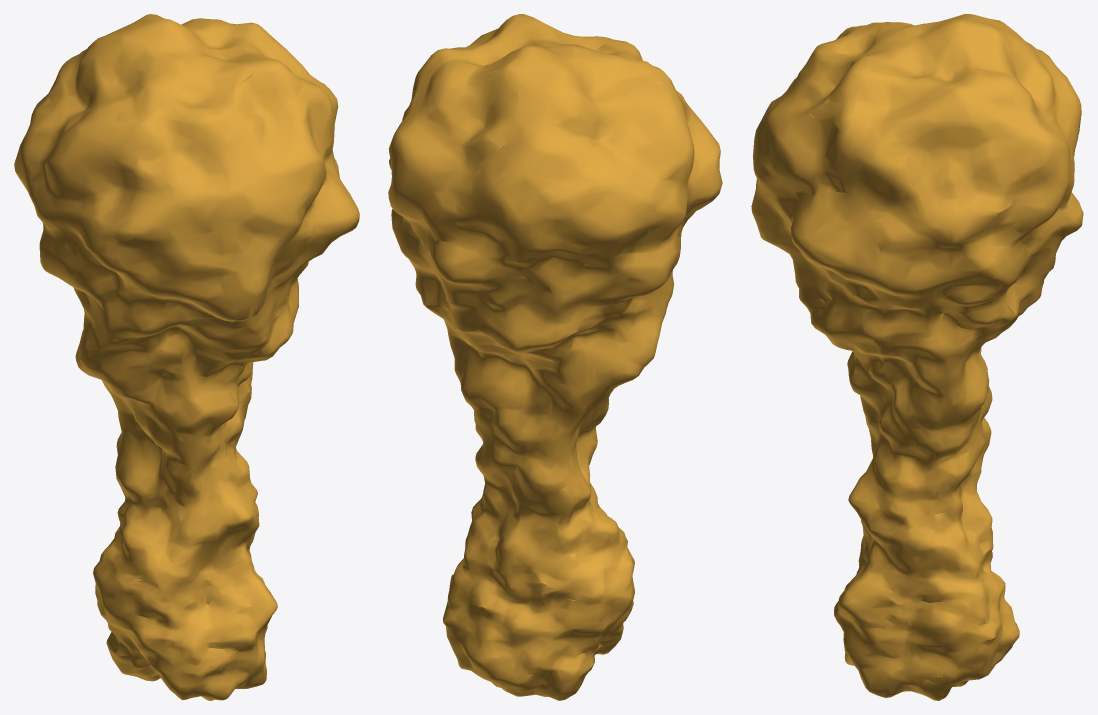
Rendered from chicken.glb.
3 views of the same model, side by side, from view 1: azimuth 30°, elevation 25°; view 2: azimuth 150°, elevation 25°; view 3: azimuth 270°, elevation 25° (orthographic).
Visible parts, largest first — view 1: Cube; view 2: Cube; view 3: Cube.
Boxes of the visible parts, x1=… form: Cube: x1=14, y1=14, x2=359, y2=700; Cube: x1=388, y1=14, x2=722, y2=700; Cube: x1=751, y1=14, x2=1083, y2=700.
Size of the model in its own units: 0.2569 by 0.5711 by 0.2614.
